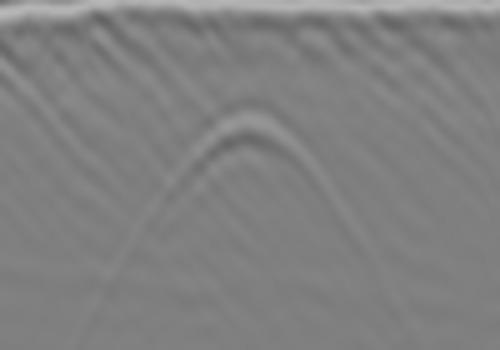hyperbola: (147, 100, 357, 232)
